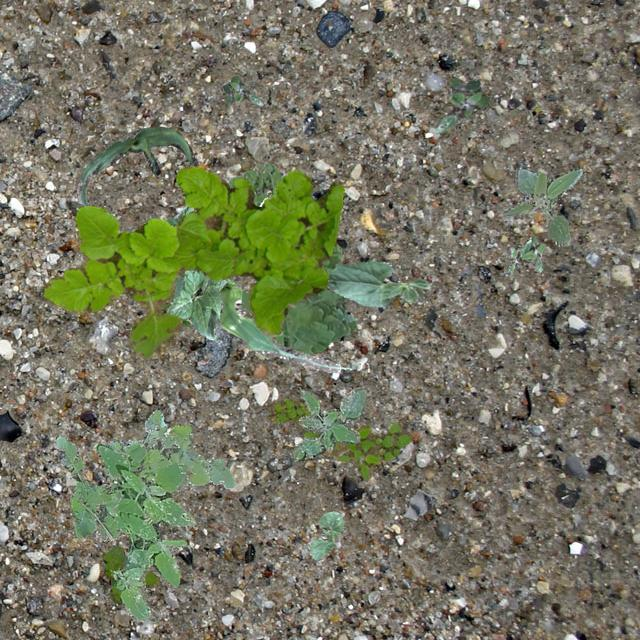crop: (215, 186, 348, 372), (76, 126, 198, 204), (326, 260, 428, 308), (166, 268, 224, 338), (306, 510, 344, 560), (165, 203, 198, 226)
weed: (42, 165, 344, 358), (226, 162, 356, 354), (54, 408, 235, 540), (96, 440, 196, 620), (266, 398, 410, 480), (502, 166, 580, 246), (292, 386, 366, 460), (102, 546, 158, 604), (434, 76, 488, 132), (506, 234, 544, 274), (222, 76, 262, 104), (158, 298, 190, 326)
